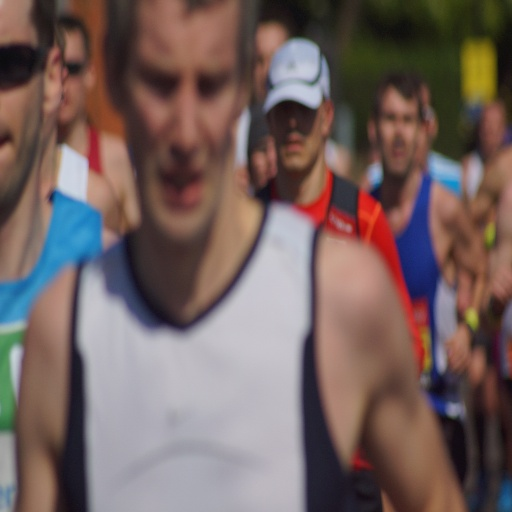hand: (444, 319, 473, 379), (248, 137, 278, 188), (483, 267, 511, 302), (462, 346, 485, 387)
